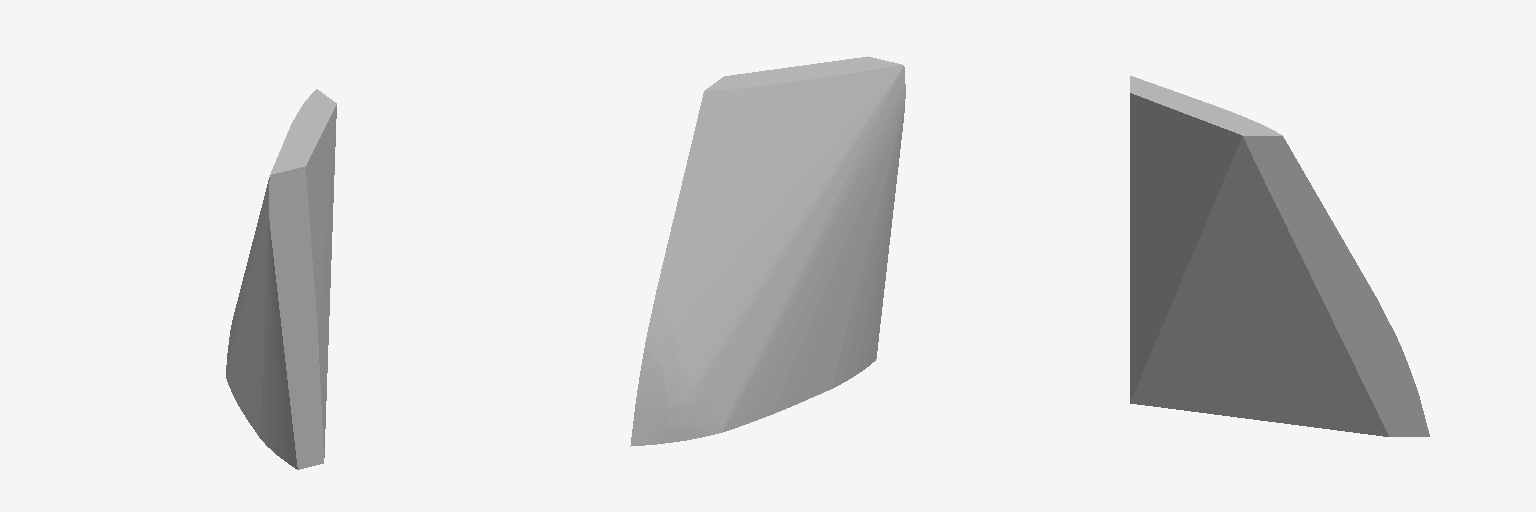
The model's file is phantom-elastrat_collision_314.obj.
3 renders of one model, left to right at view 1: azimuth 30°, elevation 25°; view 2: azimuth 150°, elevation 25°; view 3: azimuth 270°, elevation 25°, orthographic.
Bounding box in the file's own units: 0.0079 × 0.0182 × 0.0164.